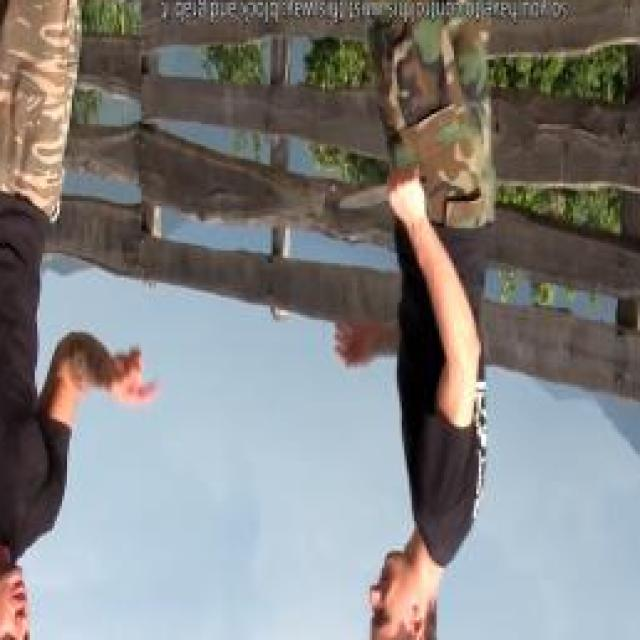knife: (330, 154, 429, 218)
